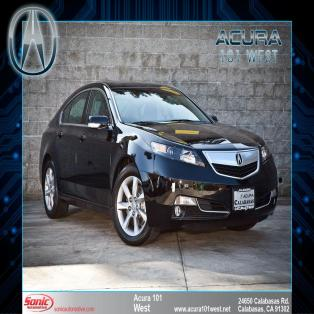Auto: (38, 79, 279, 247)
